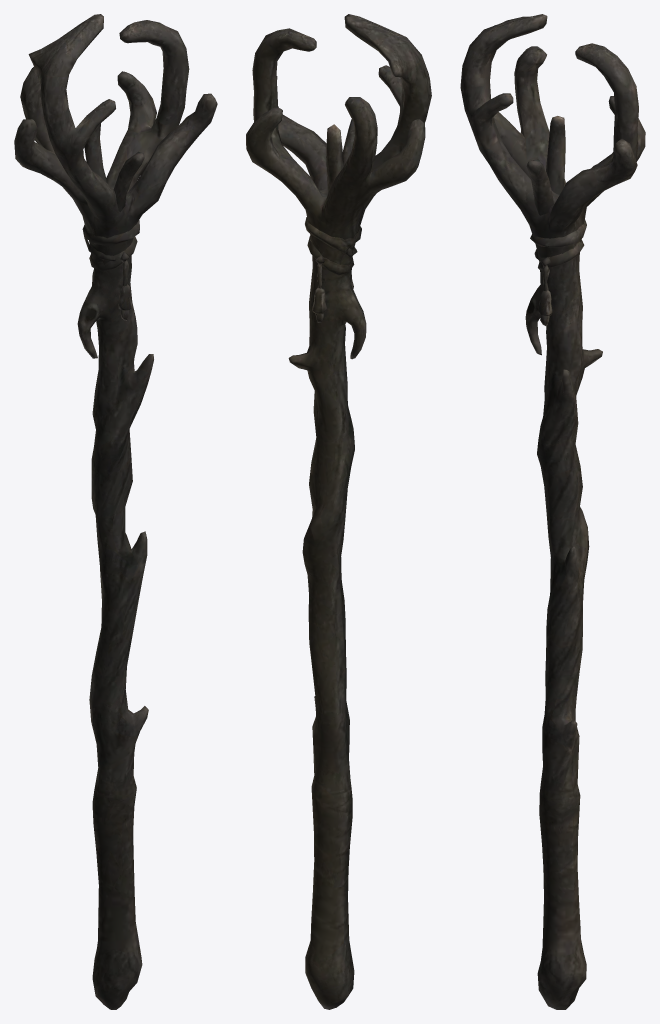
File: w_staff.glb
3 renders of one model, left to right at view 1: azimuth 30°, elevation 25°; view 2: azimuth 150°, elevation 25°; view 3: azimuth 330°, elevation 25°, orthographic.
Visible parts, largest first — view 1: w_staff; view 2: w_staff; view 3: w_staff.
Part boxes in pixels (x1=…): w_staff: x1=14, y1=14, x2=217, y2=1009; w_staff: x1=246, y1=14, x2=431, y2=1009; w_staff: x1=460, y1=14, x2=645, y2=1009.
Size of the model in its own units: 0.399 by 2.1 by 0.2219.
1 material, 1 textured.
